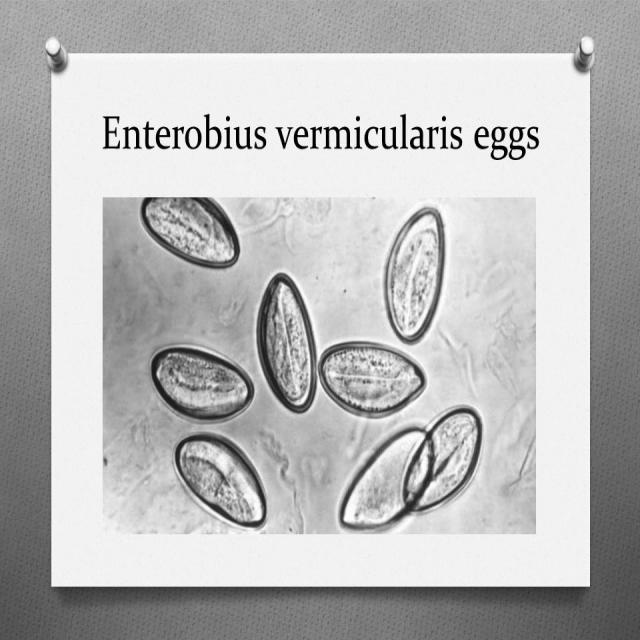Enterobius Vermicularis: (336, 423, 433, 537), (250, 266, 320, 418), (170, 428, 270, 532), (145, 338, 258, 428), (381, 202, 450, 348), (402, 400, 484, 520), (318, 340, 429, 422), (137, 193, 244, 275)
